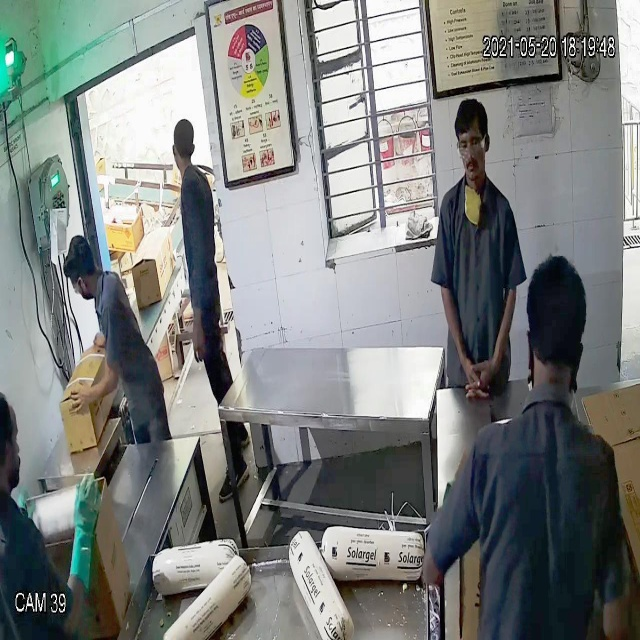Gafas: (453, 135, 488, 161)
